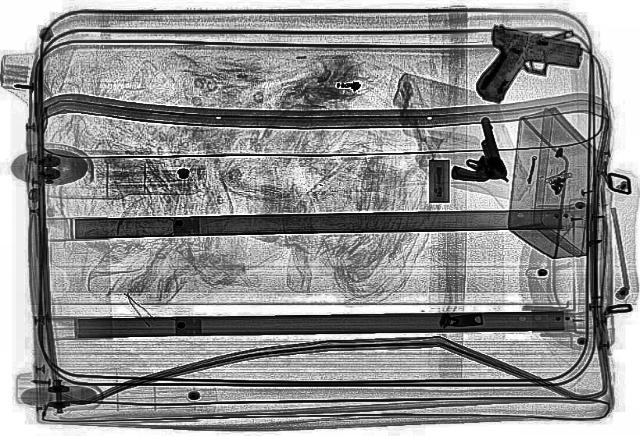Gun: (448, 17, 592, 115), (438, 114, 512, 188)
